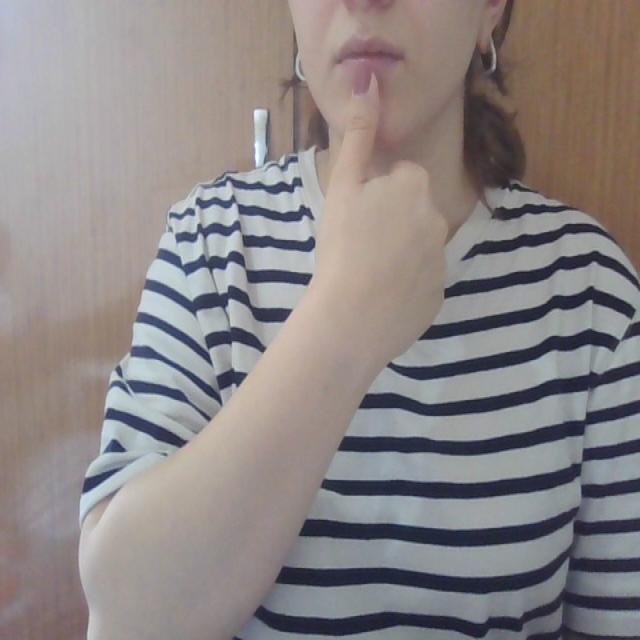Baba: (318, 20, 412, 165)
